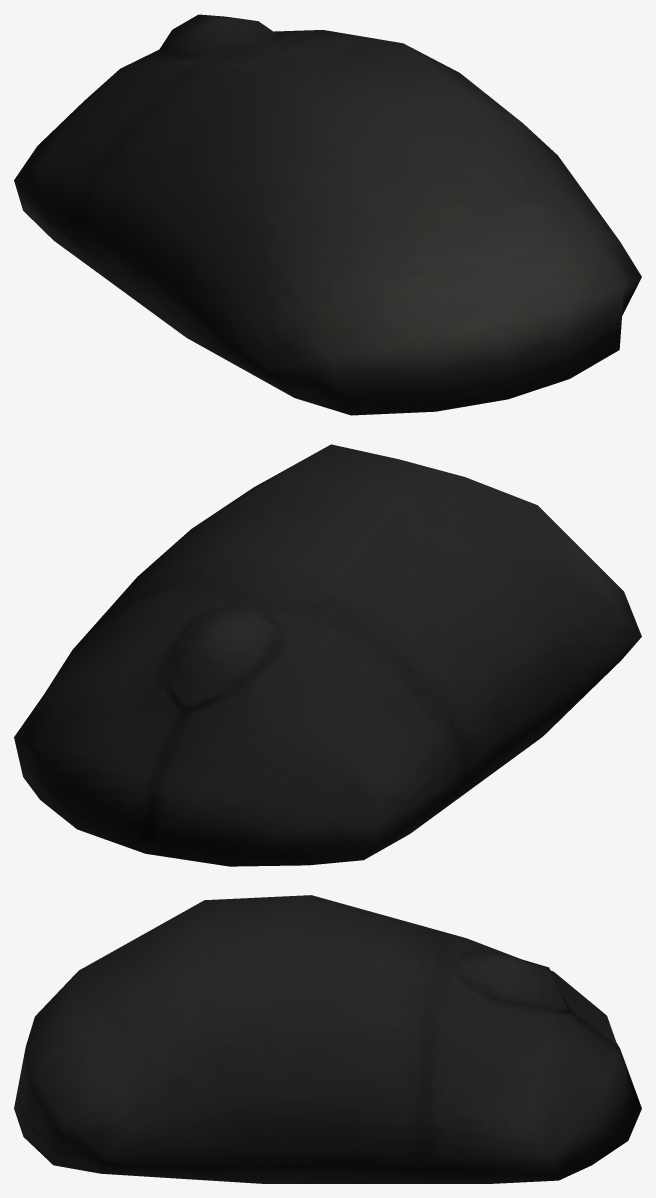
File: SM_Computer_Mouse.FBX
3 renders of one model, top to bottom at view 1: azimuth 30°, elevation 25°; view 2: azimuth 150°, elevation 25°; view 3: azimuth 270°, elevation 25°, orthographic. The views are drawn at different scales.
Visible parts, largest first — view 1: SM_Computer_Mouse; view 2: SM_Computer_Mouse; view 3: SM_Computer_Mouse.
Boxes of the visible parts, x1,y1,x2,y2 form: SM_Computer_Mouse: [14, 14, 641, 415]; SM_Computer_Mouse: [14, 444, 641, 866]; SM_Computer_Mouse: [14, 895, 641, 1183].
Size of the model in its own units: 8.82 by 14.07 by 4.59.
